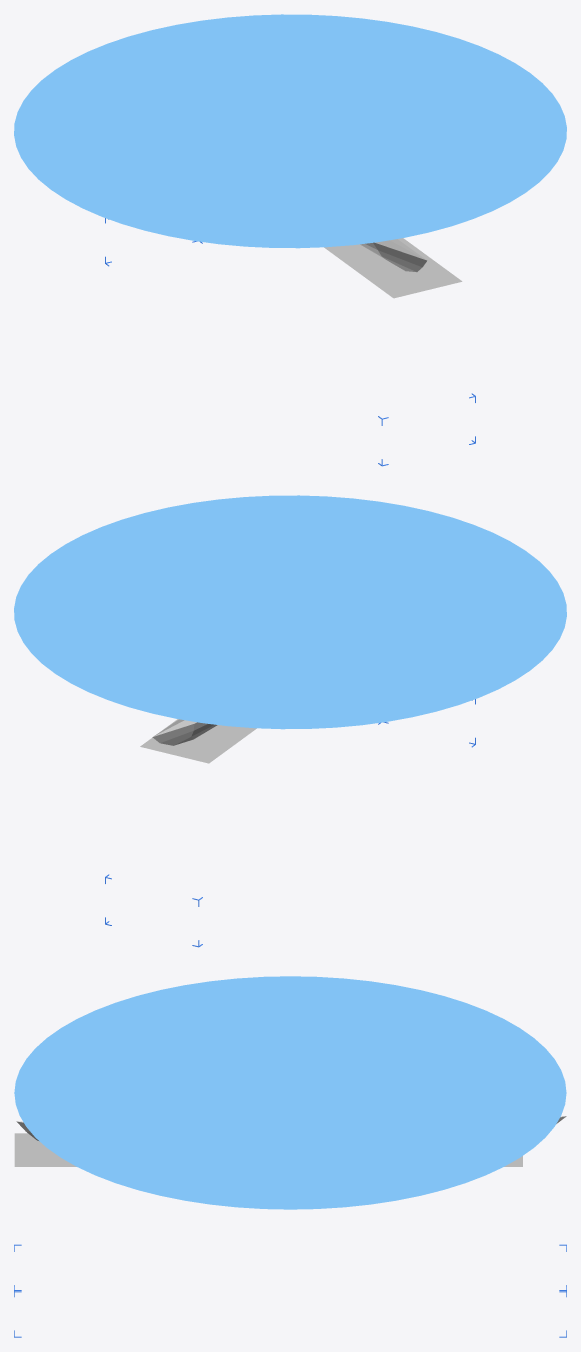
The model's file is Kayak.glb.
3 renders of one model, top to bottom at view 1: azimuth 30°, elevation 25°; view 2: azimuth 150°, elevation 25°; view 3: azimuth 270°, elevation 25°, orthographic.
Visible parts, largest first — view 1: WaterPlate, SurfaceGraphic_whiteGlow013, AIS_Kayak-A002; view 2: WaterPlate, SurfaceGraphic_whiteGlow013, AIS_Kayak-A002; view 3: WaterPlate, SurfaceGraphic_whiteGlow013.
Part boxes in pixels (bbox=[...]): WaterPlate: bbox=[14, 14, 566, 248]; SurfaceGraphic_whiteGlow013: bbox=[324, 238, 462, 298]; AIS_Kayak-A002: bbox=[360, 239, 427, 272]; WaterPlate: bbox=[14, 495, 566, 729]; SurfaceGraphic_whiteGlow013: bbox=[140, 719, 256, 763]; AIS_Kayak-A002: bbox=[152, 719, 217, 745]; WaterPlate: bbox=[14, 976, 566, 1209]; SurfaceGraphic_whiteGlow013: bbox=[14, 1133, 522, 1166].
Size of the model in its own units: 3.05 by 1.35 by 3.05.
